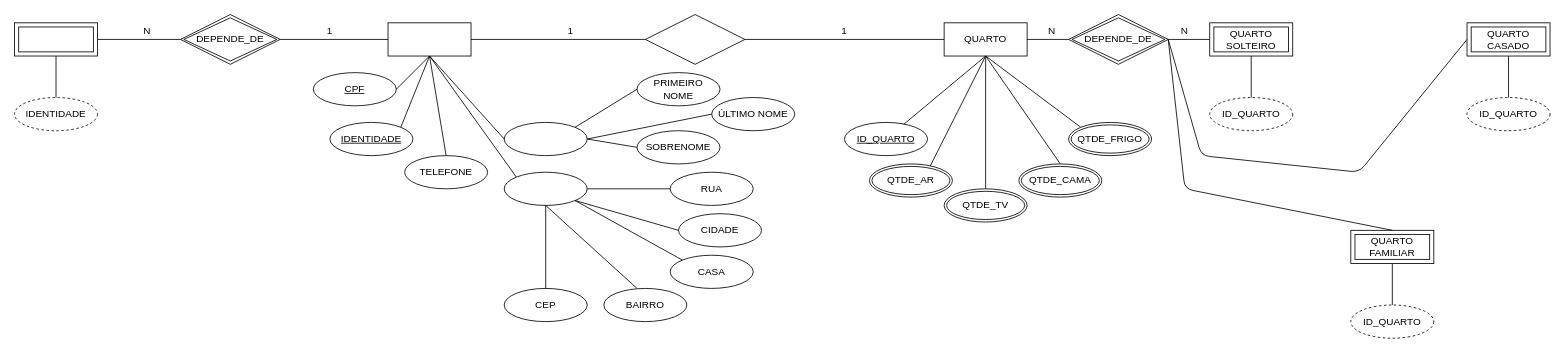
Some shapes in this 1565 by 353 pixel diagram are drawn without their labels. Each missing label, with the centre of its shape:
"ALUGAR" goes at pixel 694 39.
"ENDEREÇO" goes at pixel 545 188.
"FAMILIAR" goes at pixel 56 39.
"HÓSPEDE" goes at pixel 429 39.
"NOME" goes at pixel 545 139.
